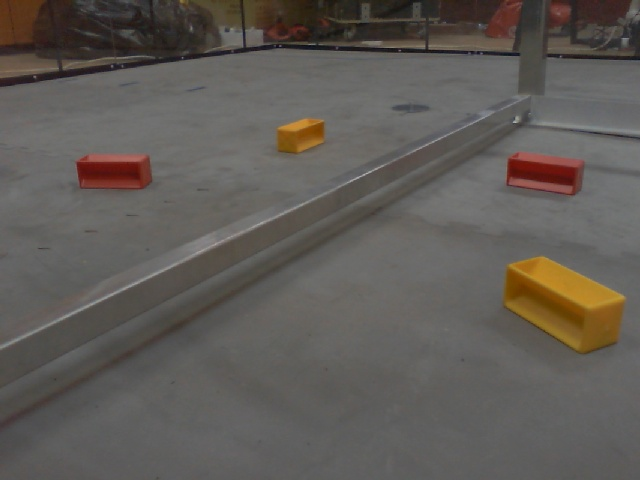RedSample: (503, 148, 587, 198), (72, 152, 155, 192)
YellowSample: (494, 254, 628, 356), (272, 115, 327, 156)
